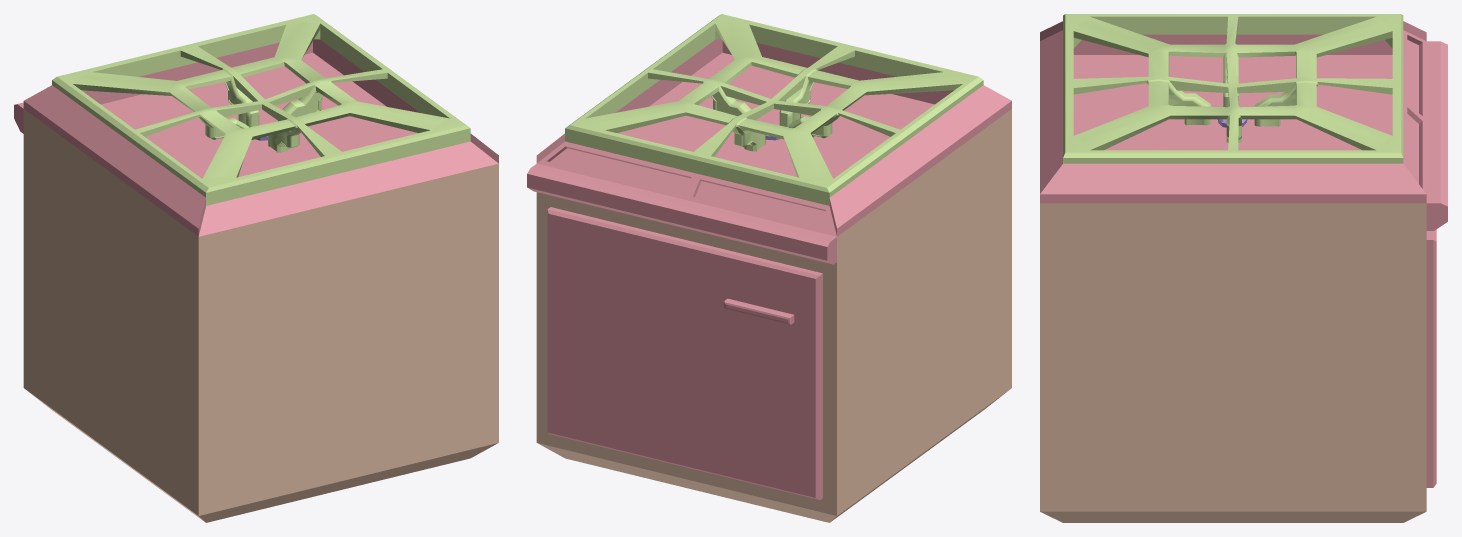
The model's file is Oven.fbx.
3 renders of one model, left to right at view 1: azimuth 30°, elevation 25°; view 2: azimuth 150°, elevation 25°; view 3: azimuth 270°, elevation 25°, orthographic. The views are drawn at different scales.
Parts seen in each view (by area): view 1: Cube.038; view 2: Cube.038; view 3: Cube.038.
Boxes of the visible parts, x1,y1,x2,y2 form: Cube.038: [14, 14, 498, 522]; Cube.038: [527, 14, 1011, 522]; Cube.038: [1040, 14, 1447, 522].
Size of the model in its own units: 175 by 189 by 187.
